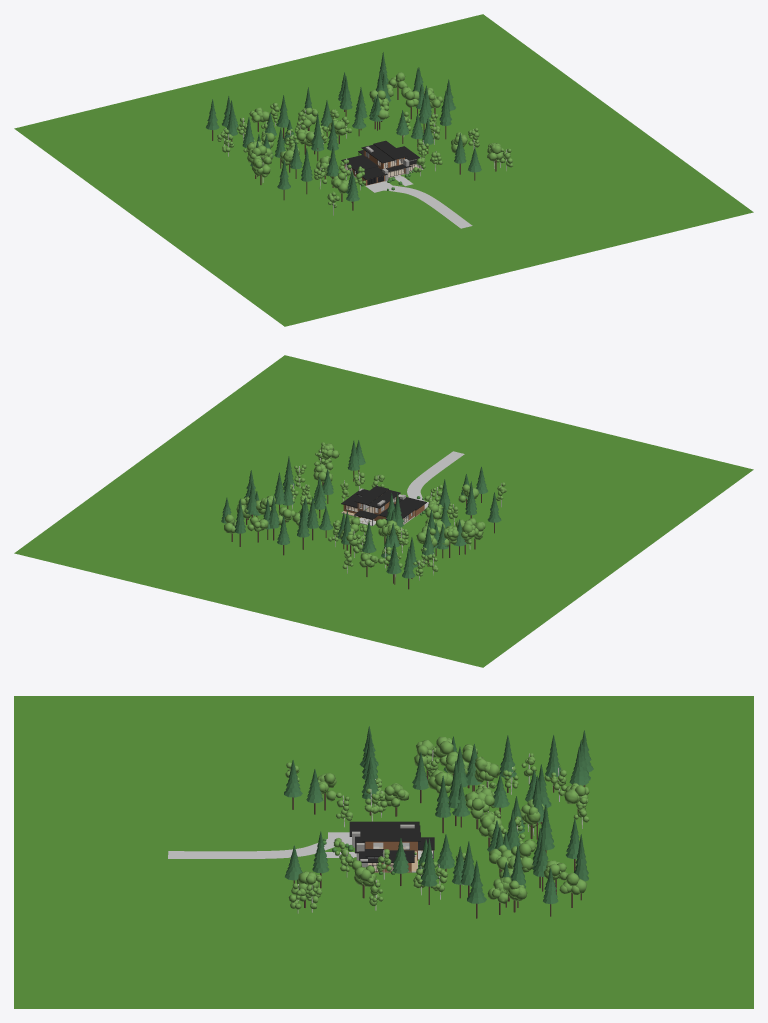
Rendered from house.glb.
3 views of the same model, one above another, from view 1: azimuth 30°, elevation 25°; view 2: azimuth 150°, elevation 25°; view 3: azimuth 270°, elevation 25° (orthographic). The views are drawn at different scales.
Visible parts, largest first — view 1: Site__Lawn, Trees__Leaves, Trees__Pine Needles, Roofs__Roof Membrane, Site__Pavers, Trees__Bark; view 2: Site__Lawn, Trees__Pine Needles, Trees__Leaves, Roofs__Roof Membrane, Site__Pavers, Trees__Bark; view 3: Site__Lawn, Trees__Leaves, Trees__Pine Needles, Roofs__Roof Membrane, Site__Pavers, Trees__Bark.
Boxes of the visible parts, x1,y1,x2,y2 form: Site__Lawn: (14, 14, 753, 326); Trees__Leaves: (217, 72, 512, 207); Trees__Pine Needles: (206, 52, 481, 201); Roofs__Roof Membrane: (341, 140, 420, 179); Site__Pavers: (365, 176, 472, 228); Trees__Bark: (212, 86, 496, 210); Site__Lawn: (14, 355, 753, 667); Trees__Pine Needles: (221, 440, 501, 578); Trees__Leaves: (224, 442, 506, 576); Roofs__Roof Membrane: (341, 485, 426, 519); Site__Pavers: (398, 451, 464, 509); Trees__Bark: (231, 466, 494, 589); Site__Lawn: (14, 696, 753, 1008); Trees__Leaves: (285, 737, 589, 909); Trees__Pine Needles: (284, 726, 593, 904); Roofs__Roof Membrane: (349, 821, 434, 862); Site__Pavers: (168, 832, 354, 858); Trees__Bark: (292, 770, 585, 918).
Bounding box in the file's own units: 240 × 24.33 × 240.
